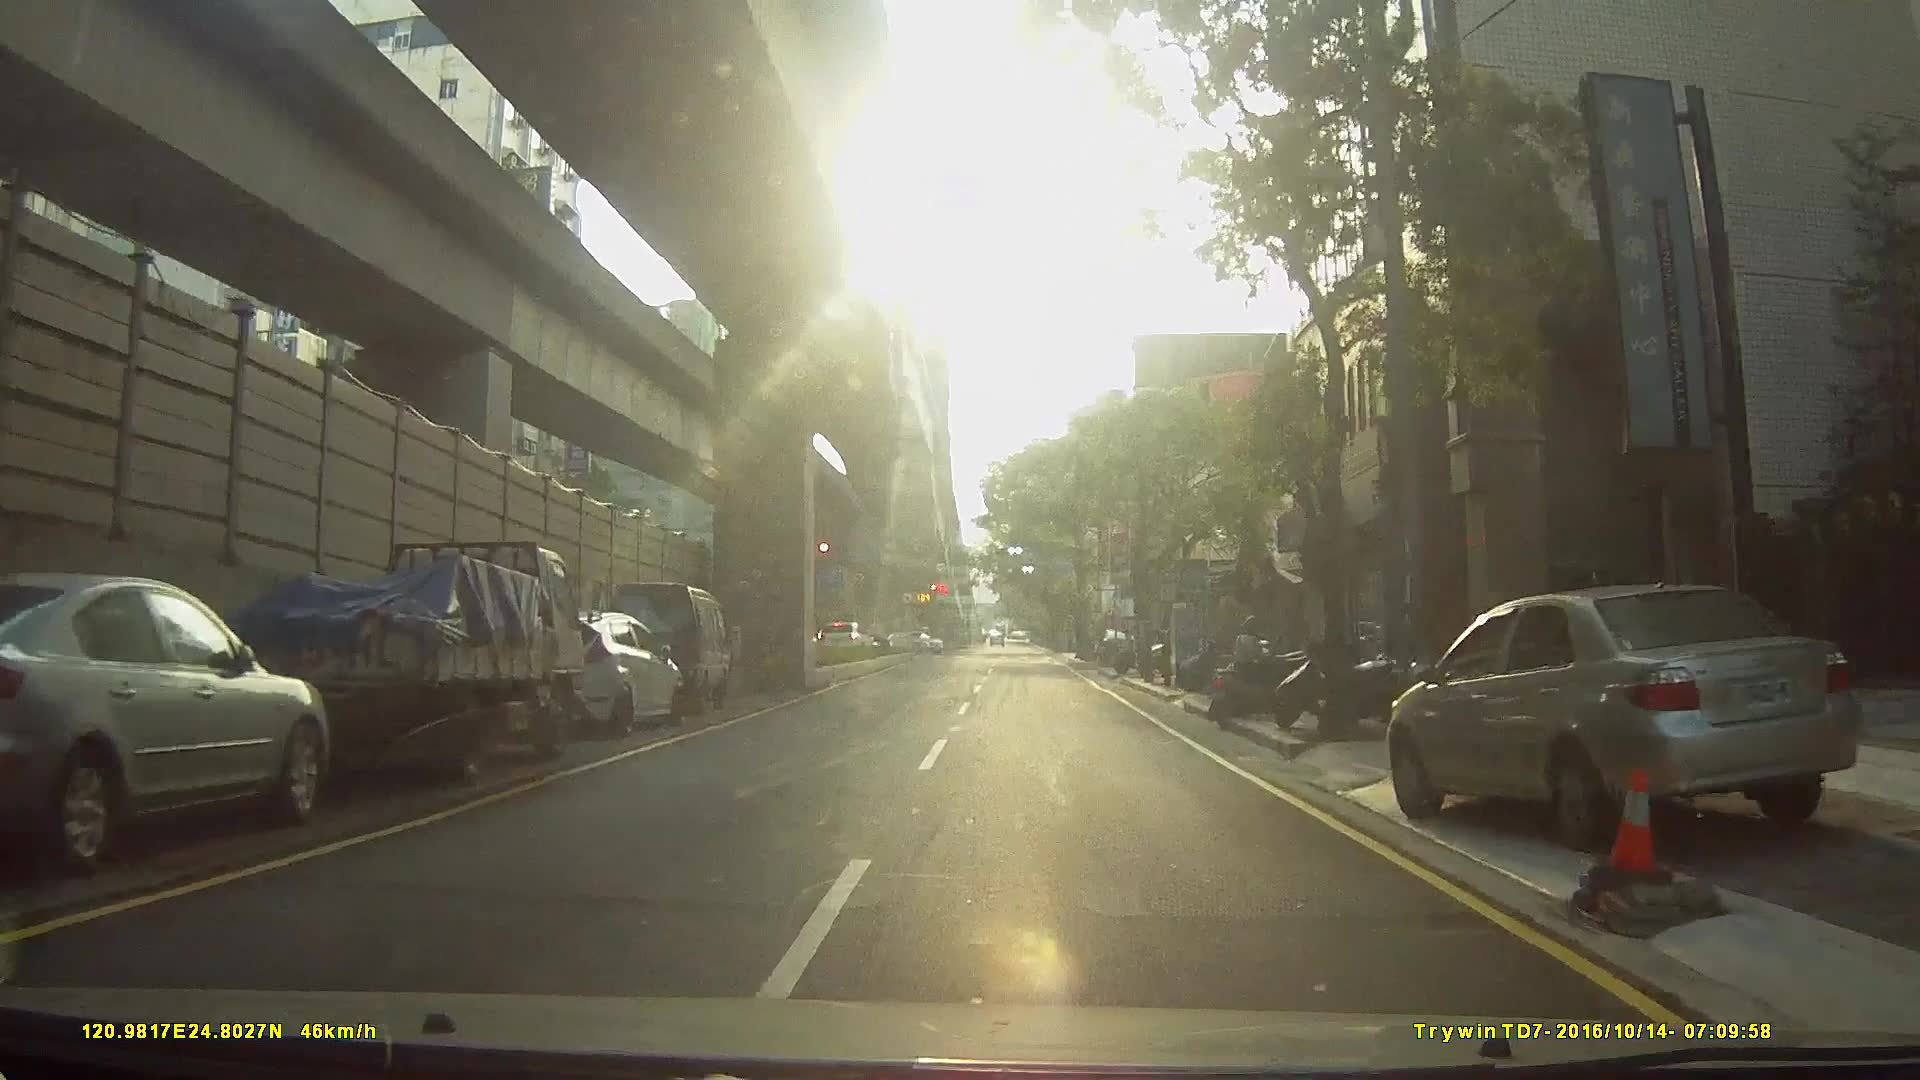rider: (1207, 611, 1302, 730)
vehicle: (1373, 576, 1877, 850), (173, 531, 614, 790), (3, 556, 341, 877), (507, 605, 682, 736), (594, 578, 729, 713), (812, 619, 871, 657), (1093, 628, 1139, 666)
